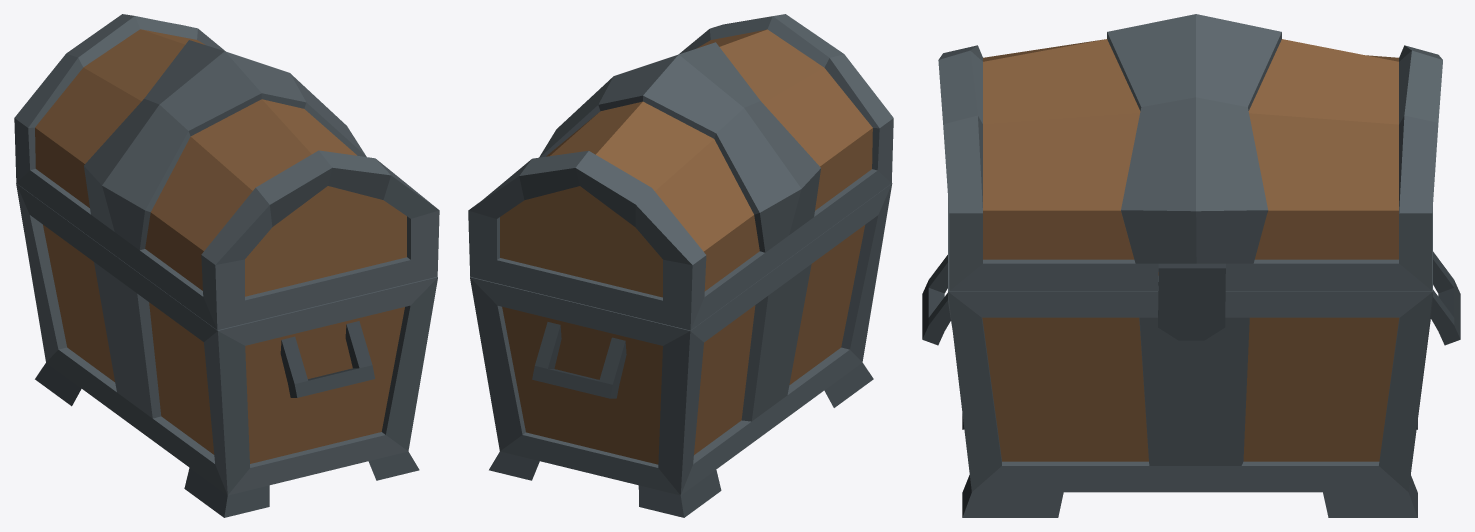
The model's file is Chest-C02.fbx.
3 renders of one model, left to right at view 1: azimuth 30°, elevation 25°; view 2: azimuth 150°, elevation 25°; view 3: azimuth 270°, elevation 25°, orthographic. The views are drawn at different scales.
Visible parts, largest first — view 1: Chest-C-top, Chest-C02; view 2: Chest-C-top, Chest-C02; view 3: Chest-C-top, Chest-C02.
Boxes of the visible parts, x1,y1,x2,y2 form: Chest-C-top: (14, 14, 439, 330); Chest-C02: (16, 183, 437, 517); Chest-C-top: (468, 14, 893, 330); Chest-C02: (470, 183, 892, 517); Chest-C-top: (938, 14, 1442, 340); Chest-C02: (922, 198, 1460, 517).
Bounding box in the file's own units: 70.52 × 102 × 112.
